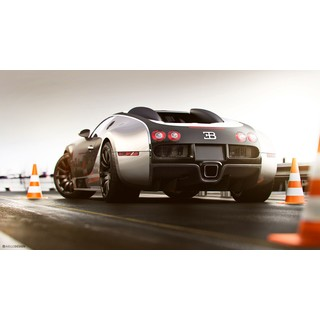car: (52, 106, 278, 205)
